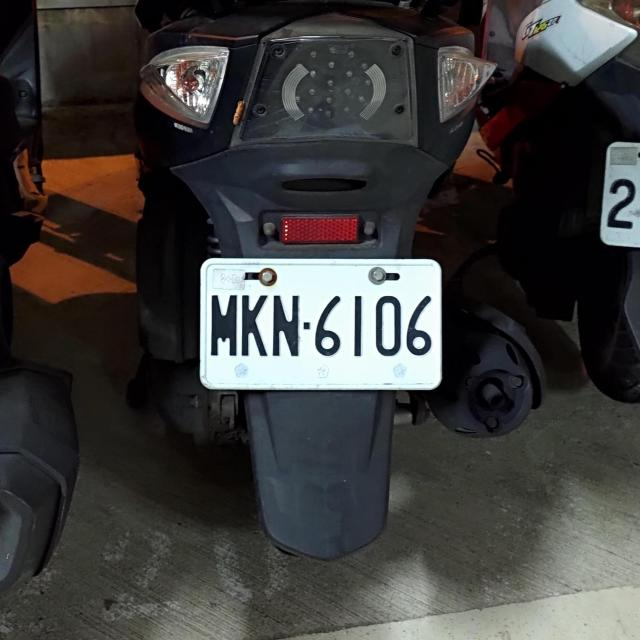W: (197, 254, 443, 392), (586, 124, 640, 267)
